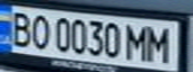0: (103, 19, 124, 60), (51, 15, 72, 53), (69, 16, 87, 55)
3: (84, 18, 106, 57)
B: (3, 8, 36, 47)
M: (142, 22, 175, 64), (124, 21, 151, 61)
O: (27, 12, 54, 51)
